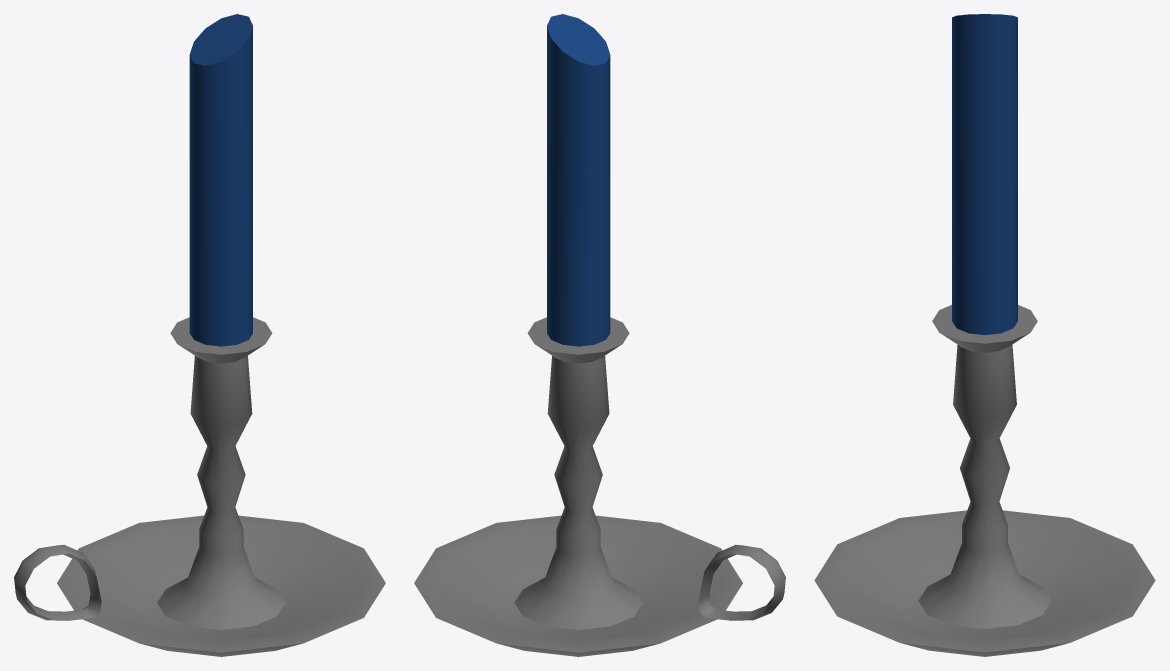
Rendered from candlestick.FBX.
3 renders of one model, left to right at view 1: azimuth 30°, elevation 25°; view 2: azimuth 150°, elevation 25°; view 3: azimuth 270°, elevation 25°, orthographic. The views are drawn at different scales.
Visible parts, largest first — view 1: candlestick; view 2: candlestick; view 3: candlestick.
Part boxes in pixels (left/top/right/bottom): candlestick: left=14, top=14, right=385, bottom=656; candlestick: left=414, top=14, right=785, bottom=656; candlestick: left=814, top=14, right=1155, bottom=656.
Bounding box in the file's own units: 23.43 × 37.73 × 19.15.
